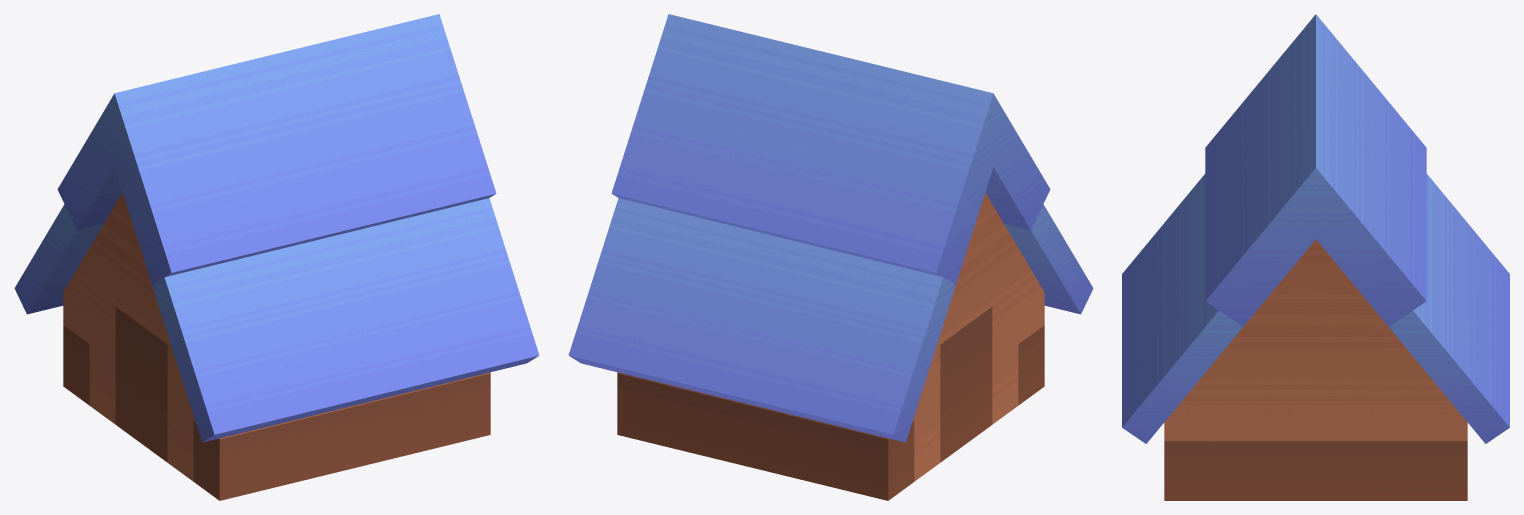
File: unit-house.glb
3 views of the same model, side by side, from view 1: azimuth 30°, elevation 25°; view 2: azimuth 150°, elevation 25°; view 3: azimuth 270°, elevation 25° (orthographic). The views are drawn at different scales.
Parts seen in each view (by area): view 1: unit-house; view 2: unit-house; view 3: unit-house.
Boxes of the visible parts, x1,y1,x2,y2 form: unit-house: (14, 14, 539, 500); unit-house: (568, 14, 1093, 500); unit-house: (1122, 14, 1509, 500).
Bounding box in the file's own units: 0.36 × 0.3781 × 0.384.
Materials: 1 (1 with a texture image).
